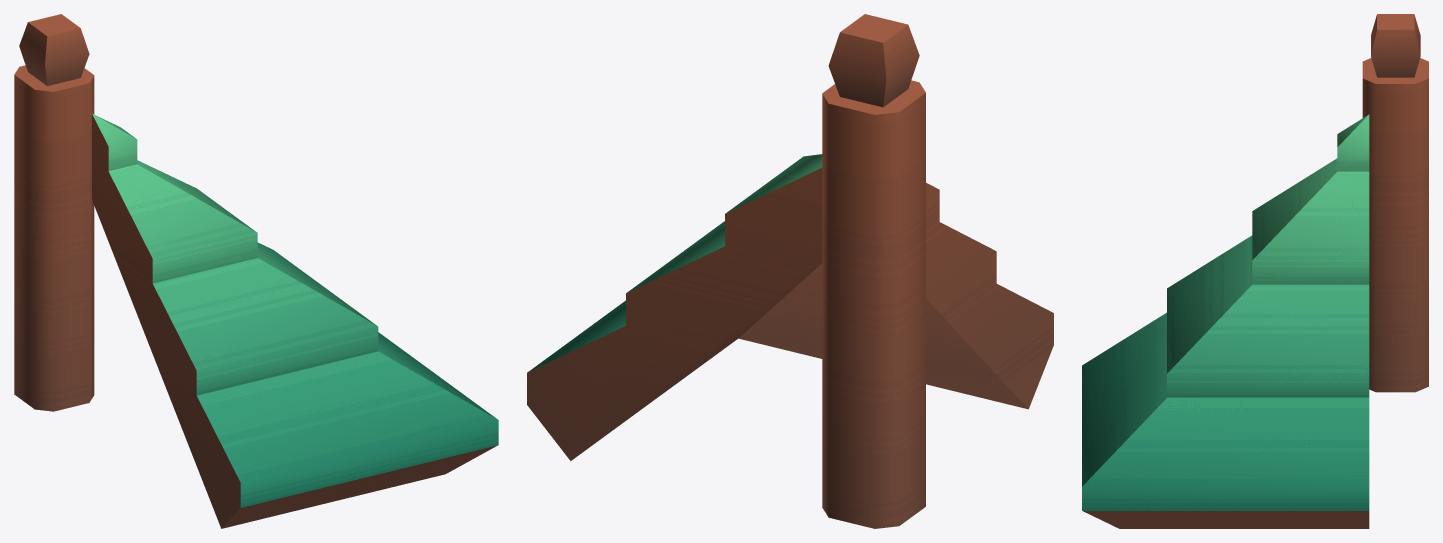
File: cabin-roof-corner.glb
3 renders of one model, left to right at view 1: azimuth 30°, elevation 25°; view 2: azimuth 150°, elevation 25°; view 3: azimuth 270°, elevation 25°, orthographic. The views are drawn at different scales.
Visible parts, largest first — view 1: cabin-roof-corner; view 2: cabin-roof-corner; view 3: cabin-roof-corner.
Part boxes in pixels (x1=…): cabin-roof-corner: x1=14, y1=14, x2=498, y2=528; cabin-roof-corner: x1=527, y1=14, x2=1053, y2=528; cabin-roof-corner: x1=1082, y1=14, x2=1428, y2=528.
Size of the model in its own units: 3.92 by 4.87 by 3.92.
Materials: 1 (1 with a texture image).
